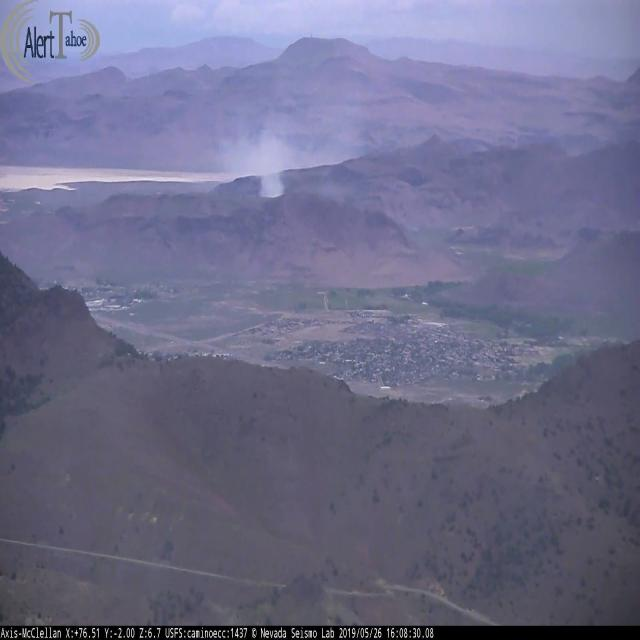smoke: (259, 138, 285, 199)
